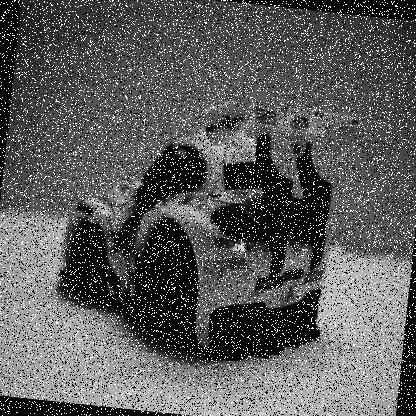Car: (50, 85, 358, 372)
